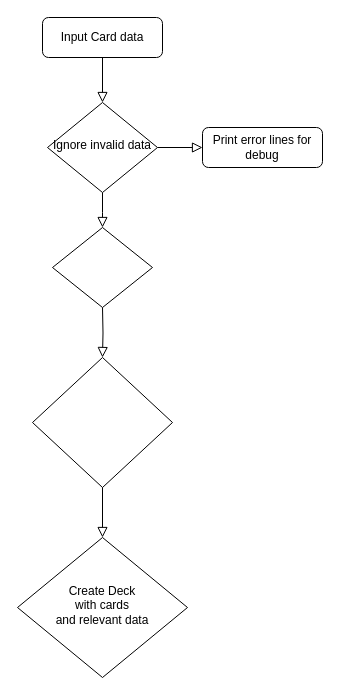
The diagram is 340 pixels wide and 695 high, and some of its shapes have lost their labels. The shapes that lost their labels are listed below. From the top down, each one's box as (x1, y1, x2, y2) in pixels, then its label:
(52, 226, 152, 308): Gather data lines
(32, 356, 172, 488): Create card obj per data Append card to list
